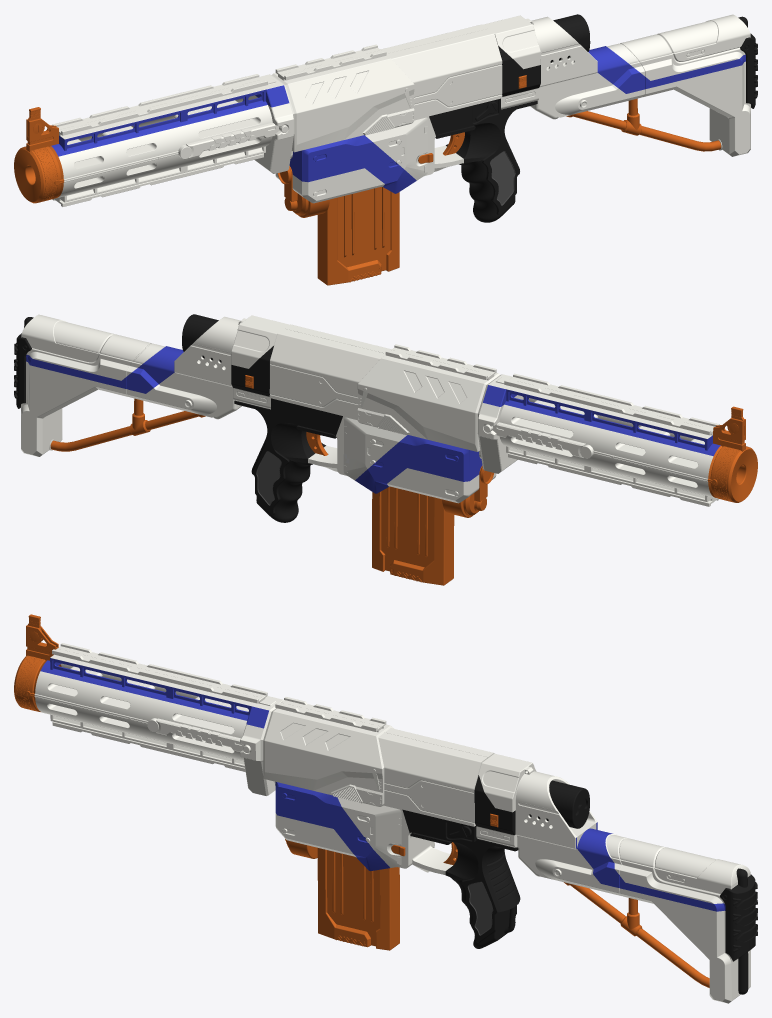
File: vanguard.glb
3 renders of one model, top to bottom at view 1: azimuth 30°, elevation 25°; view 2: azimuth 150°, elevation 25°; view 3: azimuth 330°, elevation 25°, orthographic.
Visible parts, largest first — view 1: Object_20, Object_19, Object_22, Object_9, Object_21, Object_11, Object_8, Object_13, Object_12, Object_10, Object_4, Object_6 (+2 smaller); view 2: Object_20, Object_19, Object_22, Object_9, Object_21, Object_11, Object_8, Object_13, Object_12, Object_10, Object_4, Object_15 (+3 smaller); view 3: Object_20, Object_19, Object_22, Object_9, Object_21, Object_11, Object_8, Object_6, Object_7, Object_12, Object_13, Object_5 (+3 smaller).
Boxes of the visible parts, x1=… form: Object_20: x1=272, y1=24, x2=502, y2=180; Object_19: x1=52, y1=74, x2=293, y2=206; Object_22: x1=483, y1=15, x2=750, y2=156; Object_9: x1=51, y1=46, x2=745, y2=193; Object_21: x1=275, y1=14, x2=750, y2=203; Object_11: x1=317, y1=187, x2=399, y2=285; Object_8: x1=429, y1=46, x2=540, y2=222; Object_13: x1=14, y1=118, x2=63, y2=203; Object_12: x1=566, y1=98, x2=721, y2=151; Object_10: x1=27, y1=107, x2=464, y2=270; Object_4: x1=435, y1=123, x2=500, y2=165; Object_6: x1=475, y1=14, x2=747, y2=121; Object_20: x1=269, y1=324, x2=499, y2=480; Object_19: x1=478, y1=373, x2=719, y2=506; Object_22: x1=21, y1=315, x2=288, y2=456; Object_9: x1=26, y1=346, x2=720, y2=493; Object_21: x1=21, y1=314, x2=496, y2=503; Object_11: x1=372, y1=486, x2=454, y2=585; Object_8: x1=231, y1=346, x2=342, y2=522; Object_13: x1=708, y1=419, x2=757, y2=502; Object_12: x1=50, y1=398, x2=205, y2=451; Object_10: x1=306, y1=406, x2=744, y2=570; Object_4: x1=271, y1=423, x2=336, y2=464; Object_15: x1=708, y1=418, x2=743, y2=501; Object_20: x1=263, y1=697, x2=494, y2=874; Object_19: x1=34, y1=643, x2=283, y2=795; Object_22: x1=476, y1=753, x2=750, y2=1003; Object_9: x1=40, y1=658, x2=725, y2=911; Object_21: x1=275, y1=813, x2=750, y2=903; Object_11: x1=317, y1=848, x2=399, y2=950; Object_8: x1=402, y1=775, x2=518, y2=948; Object_6: x1=449, y1=780, x2=748, y2=994; Object_7: x1=720, y1=874, x2=757, y2=961; Object_12: x1=564, y1=882, x2=709, y2=987; Object_13: x1=14, y1=625, x2=59, y2=711; Object_5: x1=482, y1=846, x2=520, y2=912.
Size of the model in its own units: 727 by 234 by 67.64.
